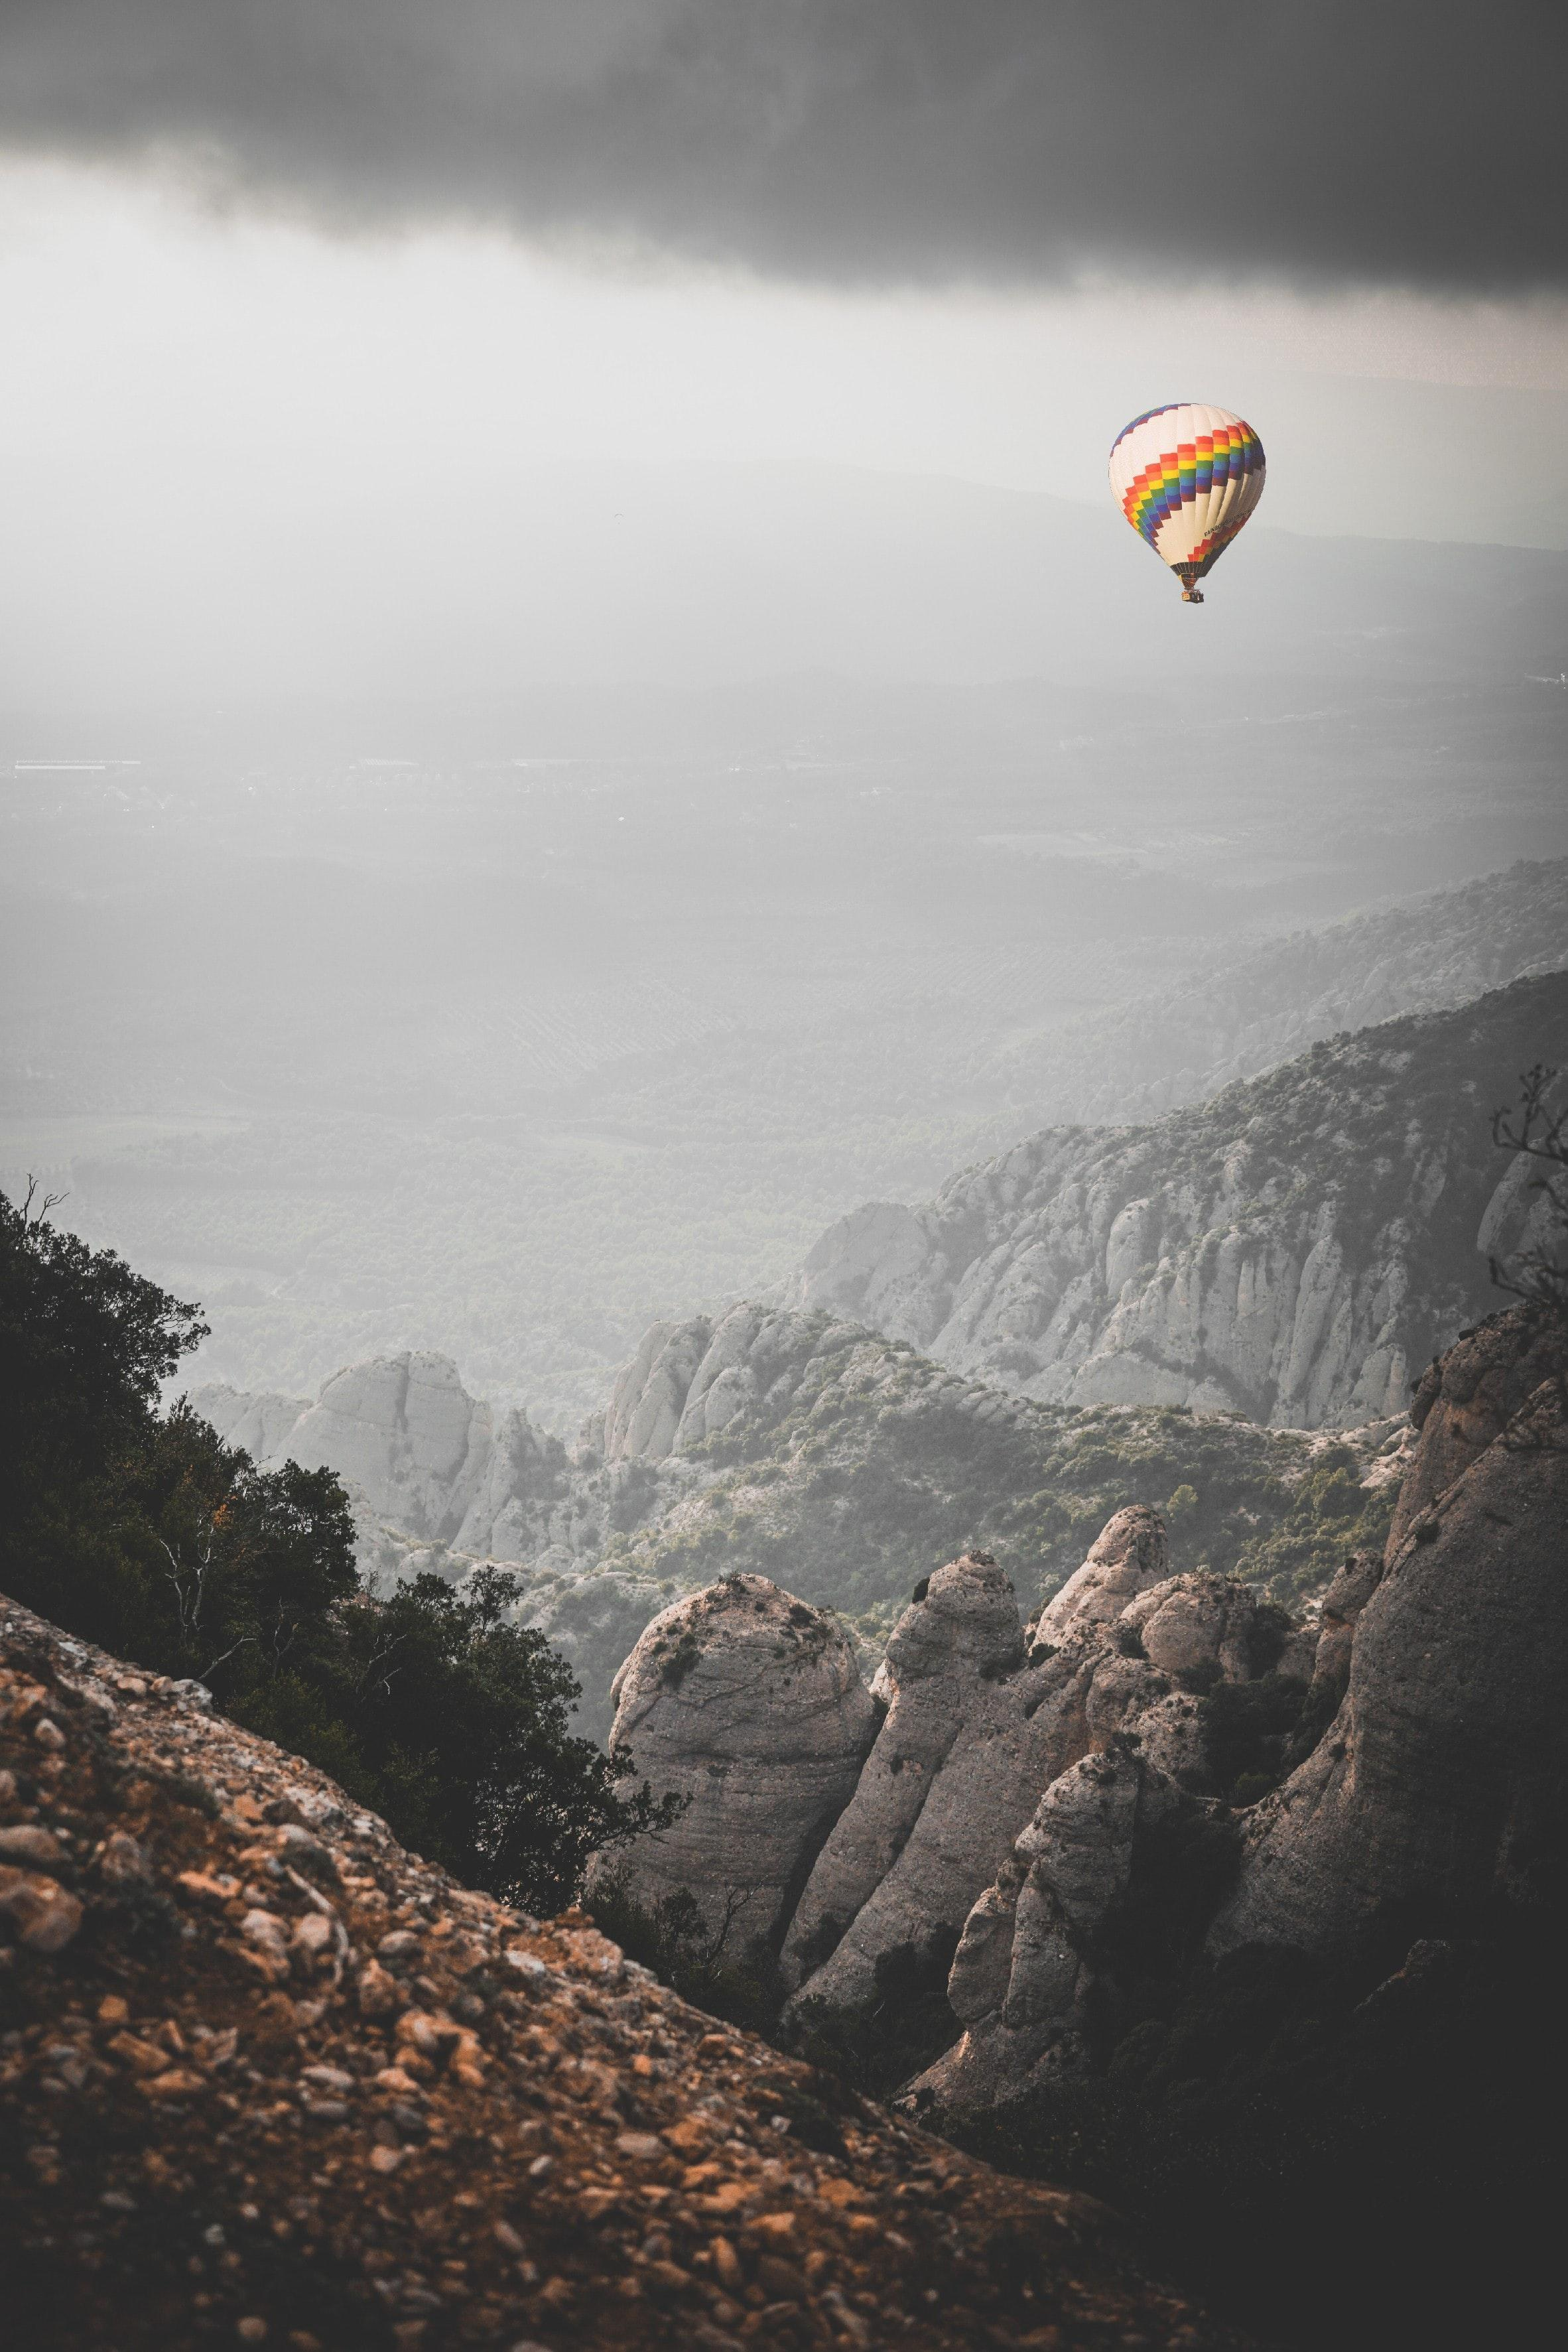hot air ballon: (1108, 404, 1265, 604)
